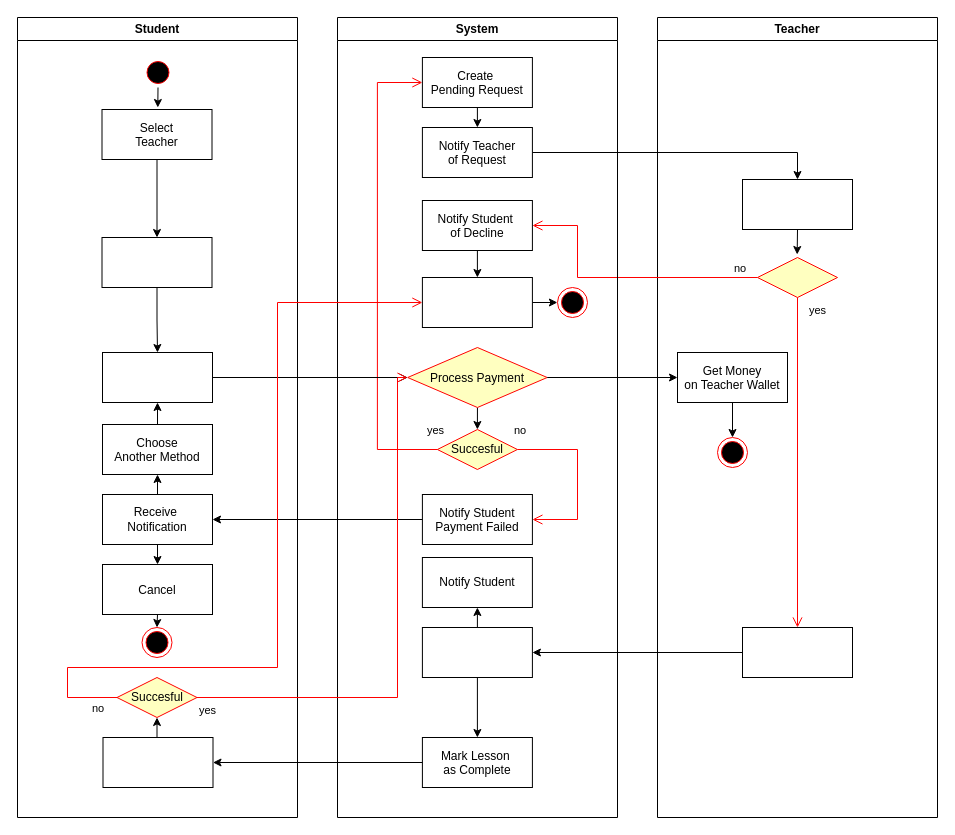
Image size: 955x835. Some labels were removed from this diagram. The box of each missing label's shape, as (x1, y1, x2, y2) in pixels:
Accept Request: (756, 256, 838, 298)
Book Lesson: (101, 236, 212, 288)
Confirm: (102, 736, 213, 788)
Confirm Lesson: (742, 626, 852, 678)
Lesson Scheduled: (421, 626, 532, 678)
Pay Lesson: (102, 352, 212, 402)
Return Money on Student Wallet: (421, 276, 532, 328)
Review Request: (742, 178, 852, 230)
